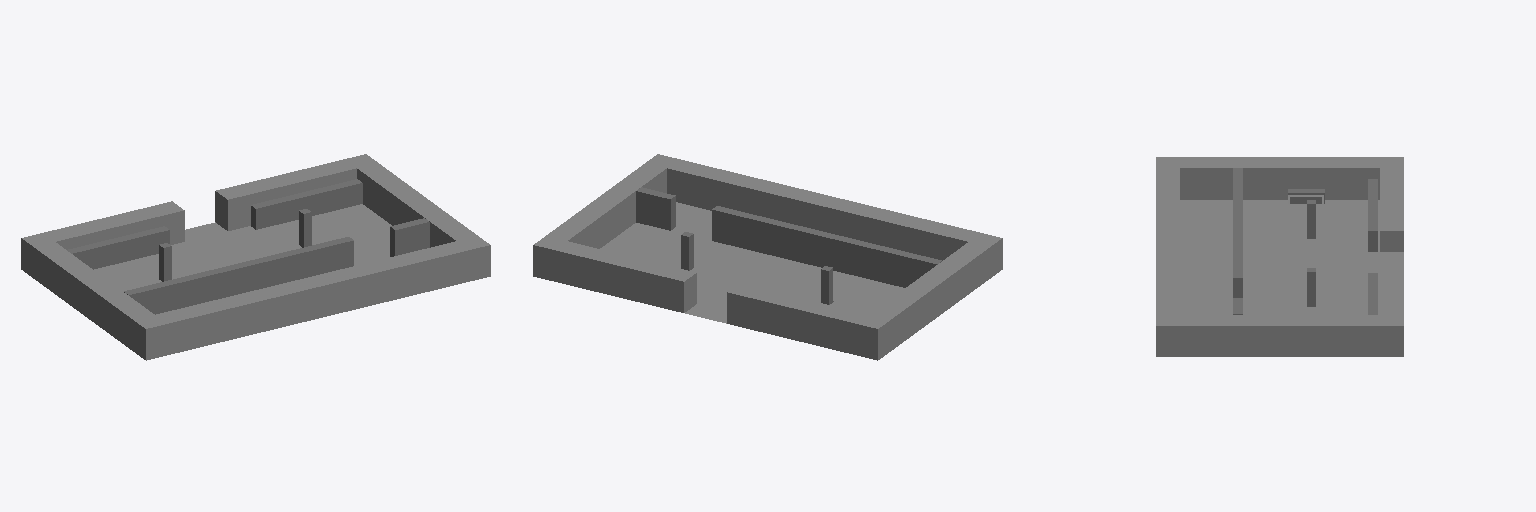
File: Room.obj
3 renders of one model, left to right at view 1: azimuth 30°, elevation 25°; view 2: azimuth 150°, elevation 25°; view 3: azimuth 270°, elevation 25°, orthographic.
Parts seen in each view (by area): view 1: polySurface1_RoomScale_room, Collision; view 2: polySurface1_RoomScale_room, Collision; view 3: polySurface1_RoomScale_room, Collision.
Part boxes in pixels (left/top/right/bottom): polySurface1_RoomScale_room: left=21, top=154, right=490, bottom=360; Collision: left=67, top=179, right=429, bottom=314; polySurface1_RoomScale_room: left=533, top=154, right=1002, bottom=360; Collision: left=636, top=187, right=941, bottom=304; polySurface1_RoomScale_room: left=1156, top=157, right=1403, bottom=356; Collision: left=1233, top=168, right=1377, bottom=314.
Size of the model in its own units: 80 by 7.68 by 50.